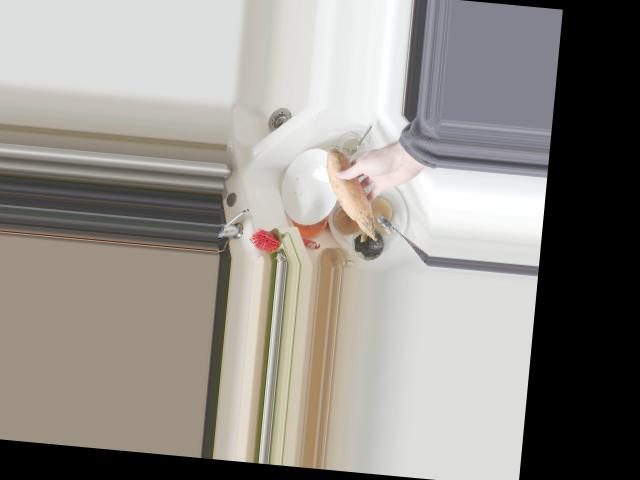sweet_potato: (317, 147, 387, 238)
